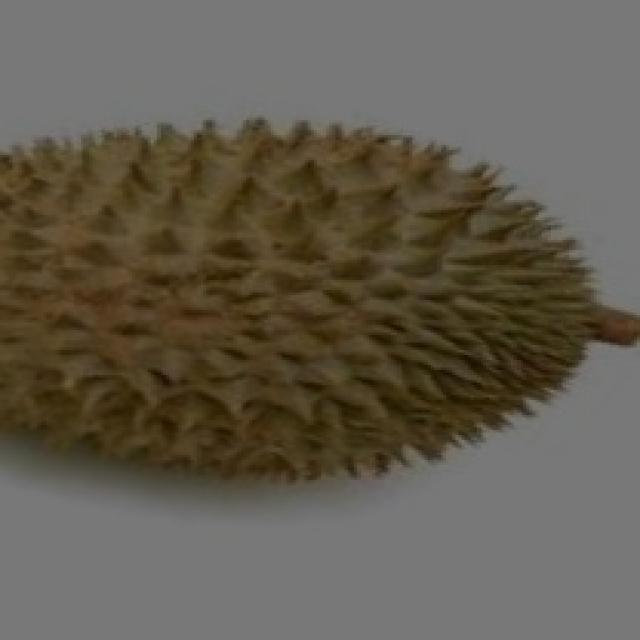fruit: (271, 110, 634, 538)
